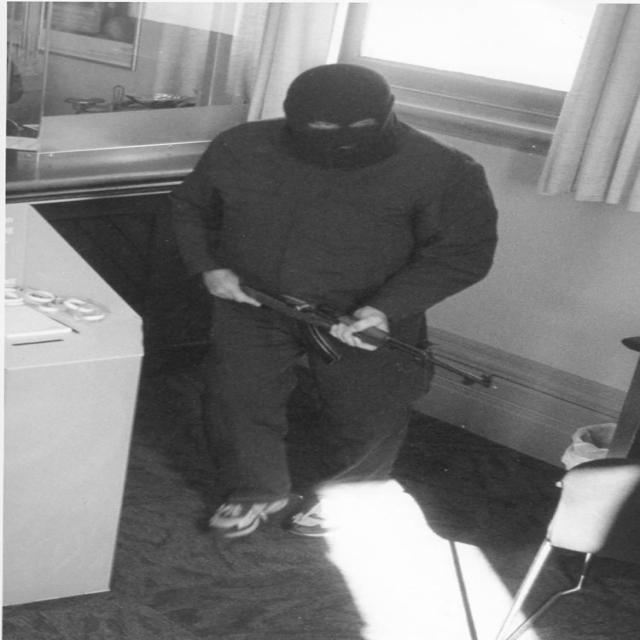gun: (212, 270, 503, 391)
